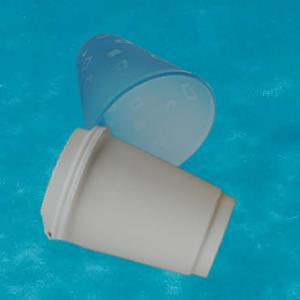cup: (39, 126, 239, 277)
